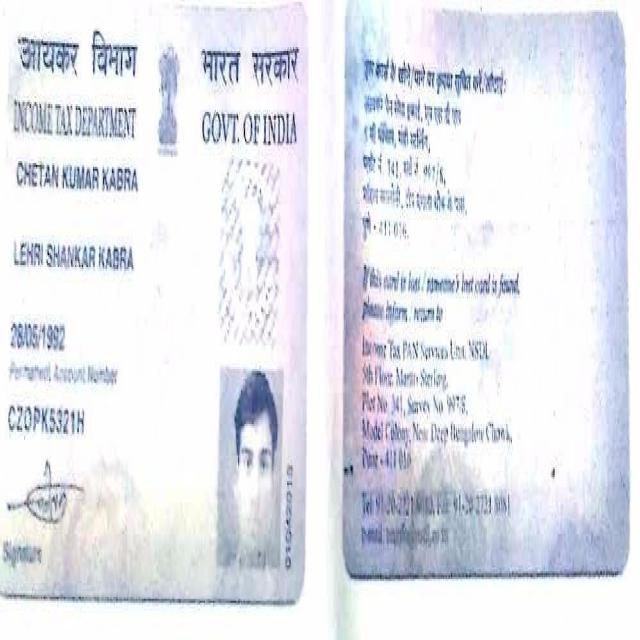pan_card: (0, 0, 308, 606), (347, 0, 629, 571)
